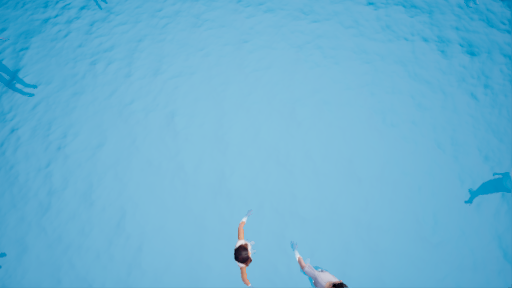person: (288, 239, 356, 288), (228, 201, 261, 288)
